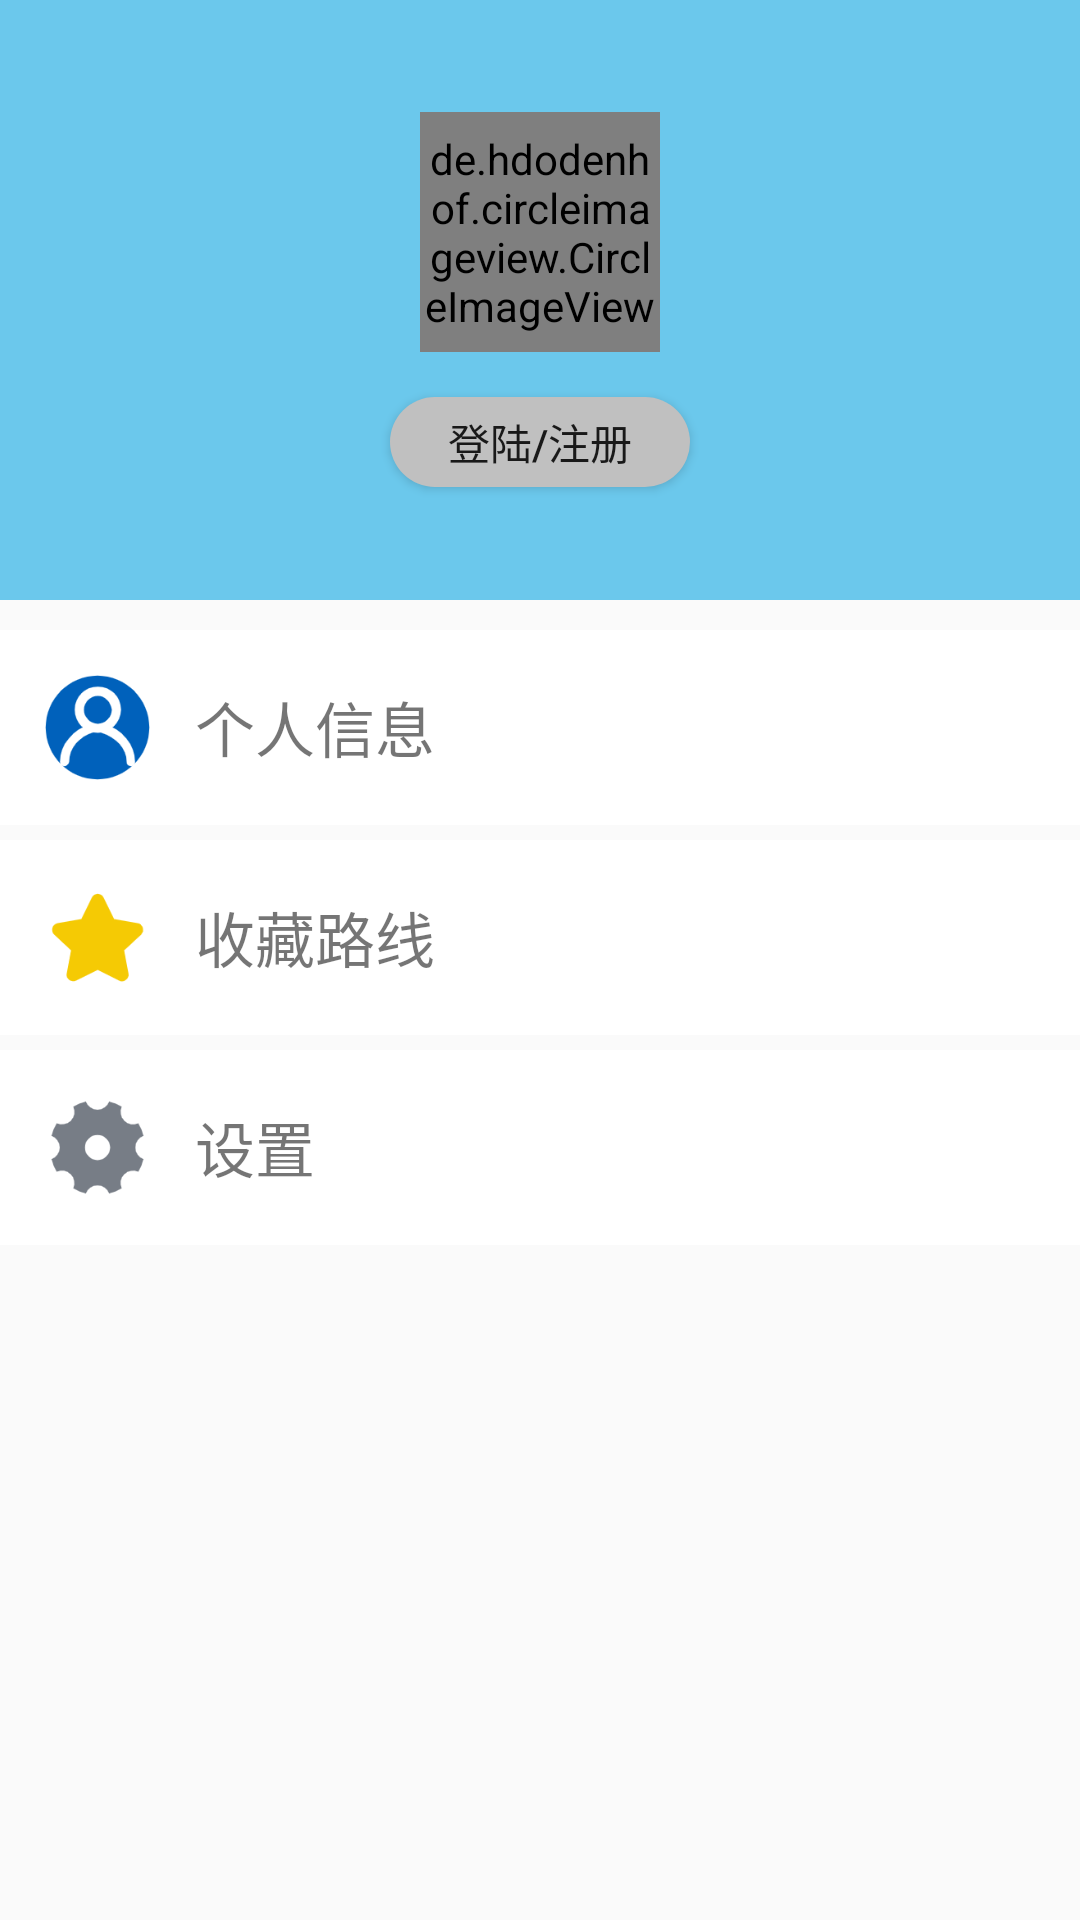

Screen size 1080x1920. Icon name, then its center in pixels as [x,y]:
save: [98,937]
set: [97,1147]
user info: [97,727]
